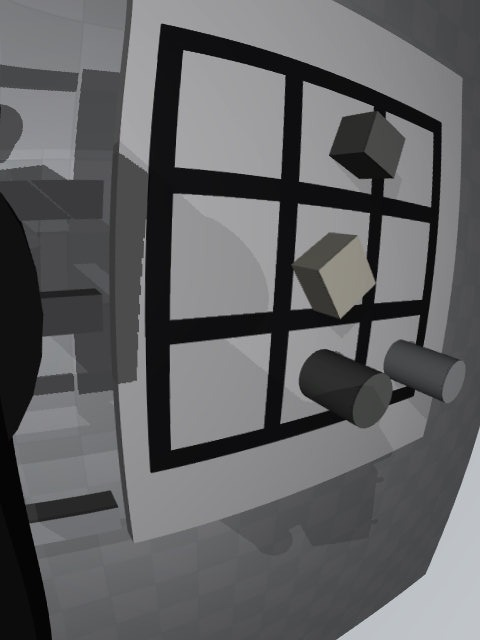can: (383, 339, 466, 403)
cube: (329, 111, 406, 179)
cylinder: (299, 349, 393, 428)
foam: (291, 232, 375, 320)
